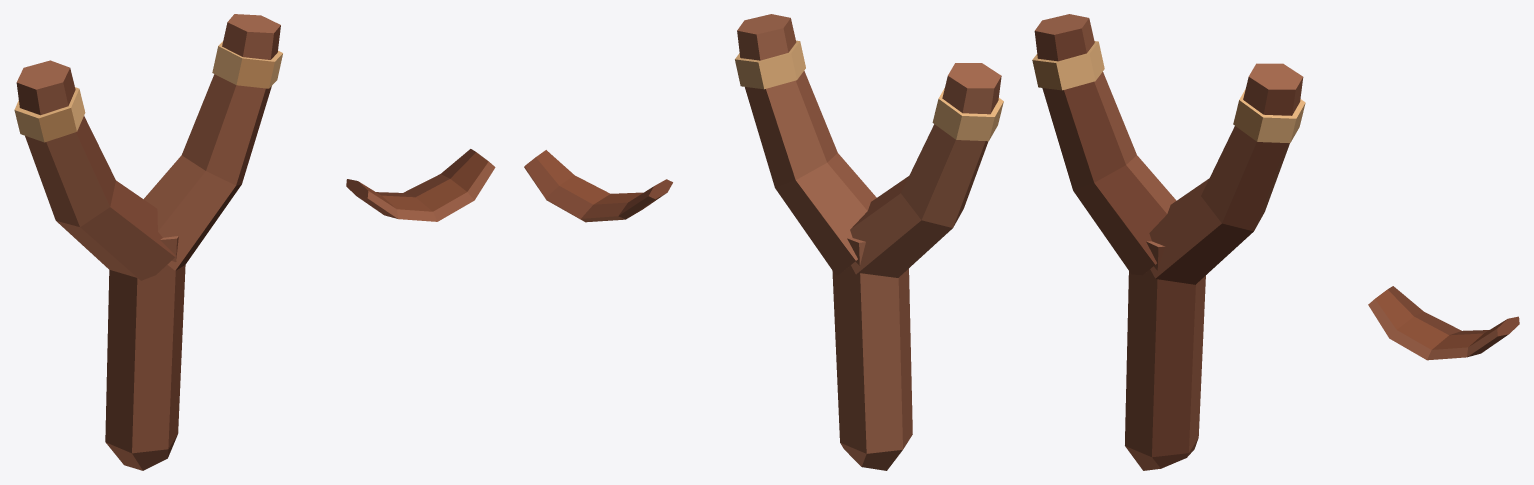
The model's file is Slingshot_No_Bands.glb.
3 renders of one model, left to right at view 1: azimuth 30°, elevation 25°; view 2: azimuth 150°, elevation 25°; view 3: azimuth 330°, elevation 25°, orthographic.
Parts seen in each view (by area): view 1: Wooden handle, Wooden fork, Wooden fork.001, Leather_Pouch, Fork leather tie, Fork leather tie.001; view 2: Wooden fork.001, Wooden handle, Wooden fork, Leather_Pouch, Fork leather tie.001, Fork leather tie; view 3: Wooden fork, Wooden handle, Wooden fork.001, Leather_Pouch, Fork leather tie, Fork leather tie.001.
Part boxes in pixels (bbox=[...]): Wooden handle: bbox=[105, 236, 185, 470]; Wooden fork: bbox=[16, 60, 175, 280]; Wooden fork.001: bbox=[144, 14, 280, 270]; Leather_Pouch: bbox=[346, 149, 495, 221]; Fork leather tie: bbox=[14, 87, 85, 142]; Fork leather tie.001: bbox=[212, 41, 282, 88]; Wooden fork.001: bbox=[737, 14, 876, 275]; Wooden handle: bbox=[832, 238, 912, 470]; Wooden fork: bbox=[850, 63, 1001, 277]; Leather_Pouch: bbox=[524, 150, 672, 222]; Fork leather tie.001: bbox=[735, 40, 805, 89]; Fork leather tie: bbox=[932, 88, 1003, 141]; Wooden fork: bbox=[1034, 14, 1176, 275]; Wooden handle: bbox=[1125, 241, 1205, 470]; Wooden fork.001: bbox=[1149, 63, 1303, 284]; Leather_Pouch: bbox=[1368, 286, 1519, 360]; Fork leather tie: bbox=[1032, 41, 1104, 90]; Fork leather tie.001: bbox=[1233, 89, 1305, 143].
Size of the model in its own units: 1.19 by 1.01 by 0.1758.
1 material, 1 textured.
